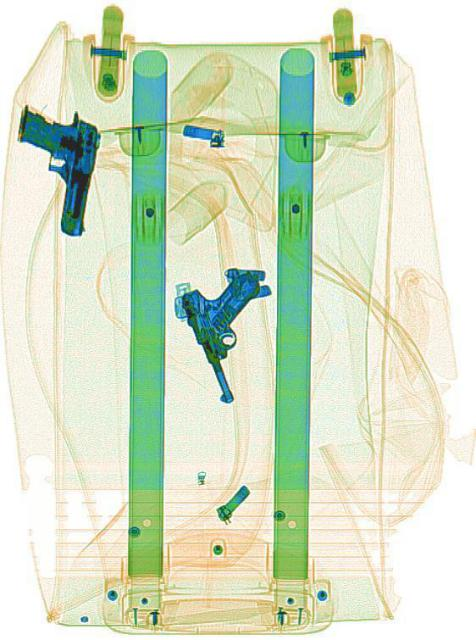Gun: (177, 258, 287, 407), (3, 96, 99, 237)
